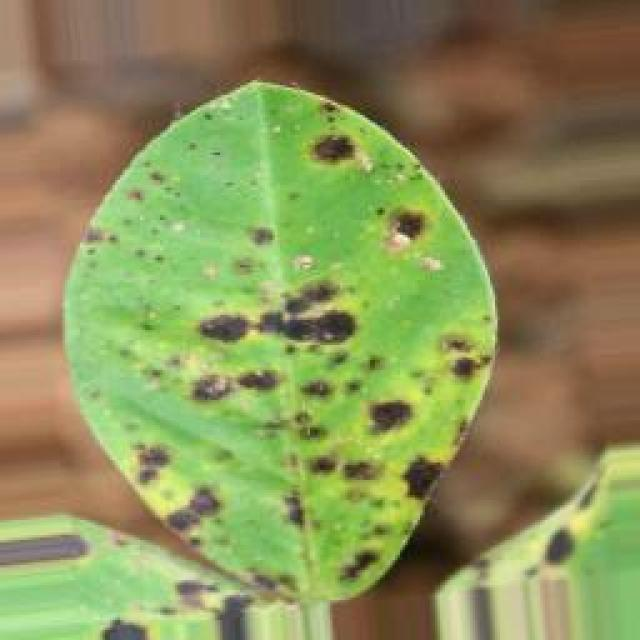Yellowish: (68, 68, 472, 581)
